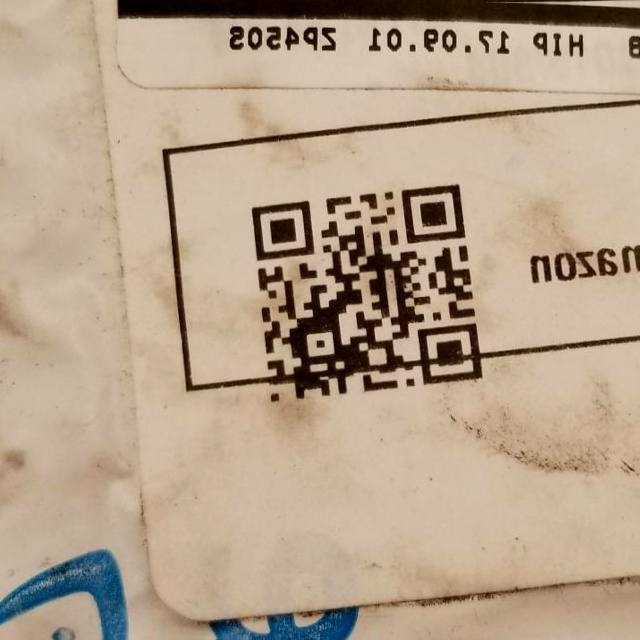qr-code: (242, 153, 503, 418)
